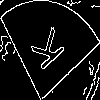K: (25, 25, 66, 79)
